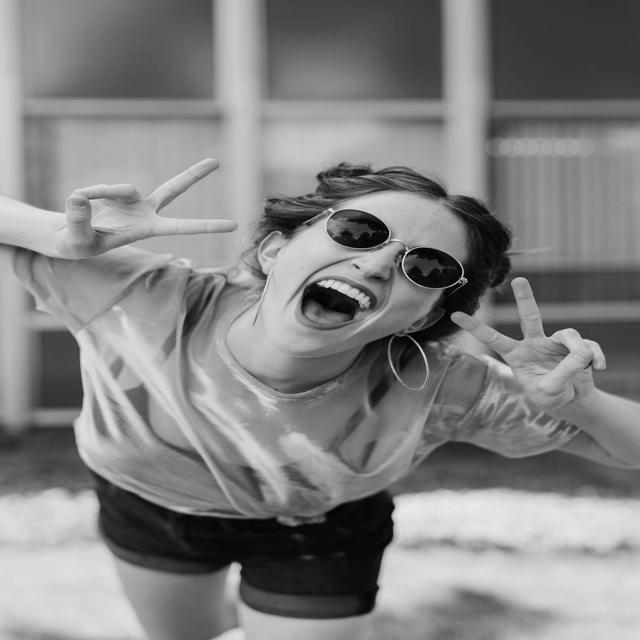Happiness: (264, 190, 468, 359)
